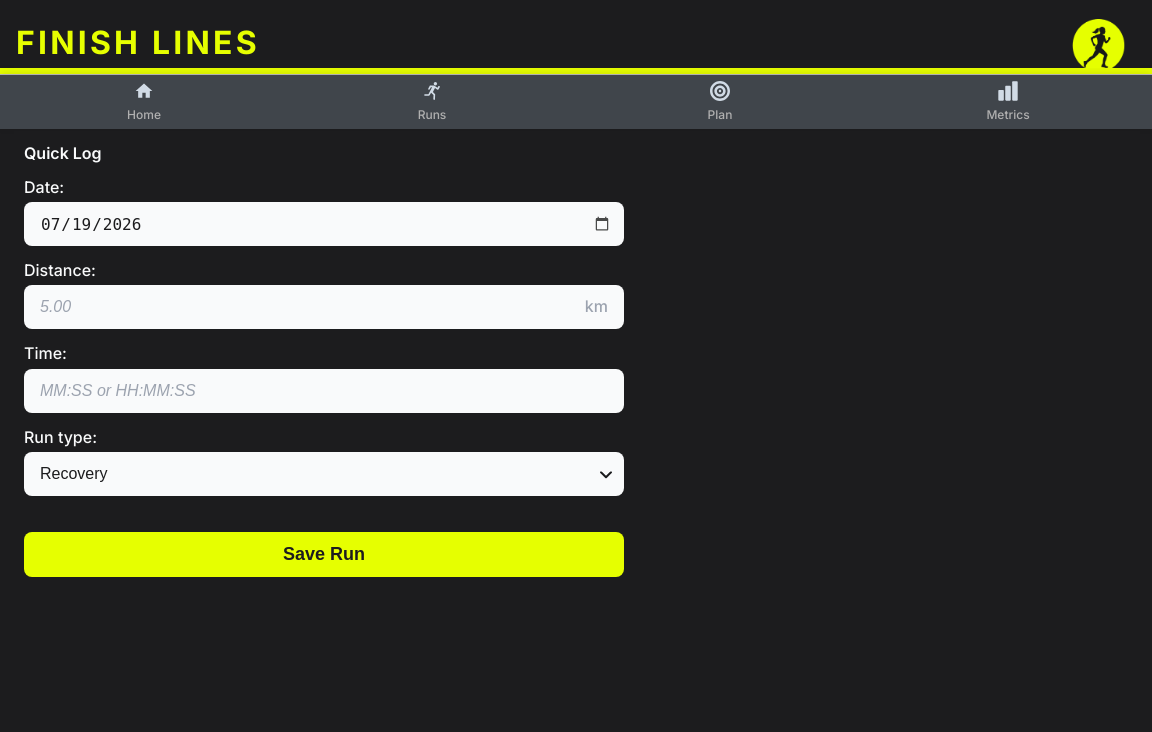
Scenario: QuickLogPage Progress Calculation › should accept and display distances with 2 decimal places
Type "5.25" into the number field with test id "distance-input" at (324,307), box 24,285 -> 624,329
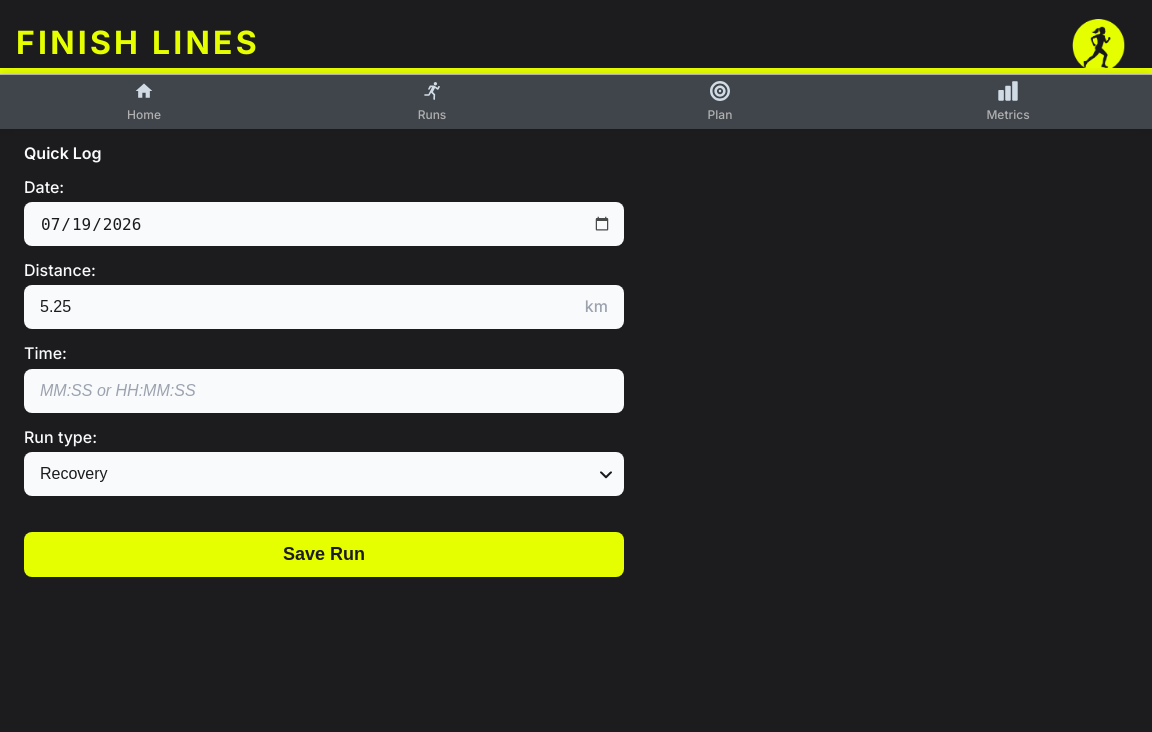
Type "30:00" into the field with test id "time-input" at (324,390), box 24,368 -> 624,412
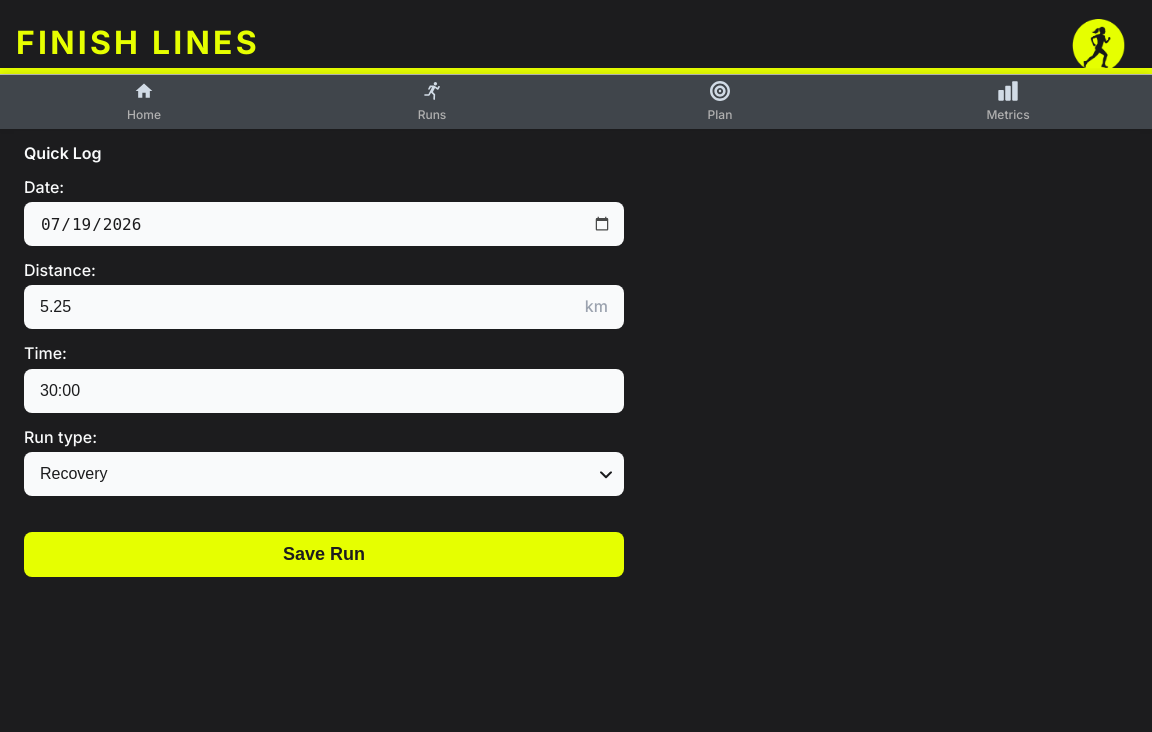
// Submit form
Submit the form with test id "quick-log-form", box 24,175 -> 624,577
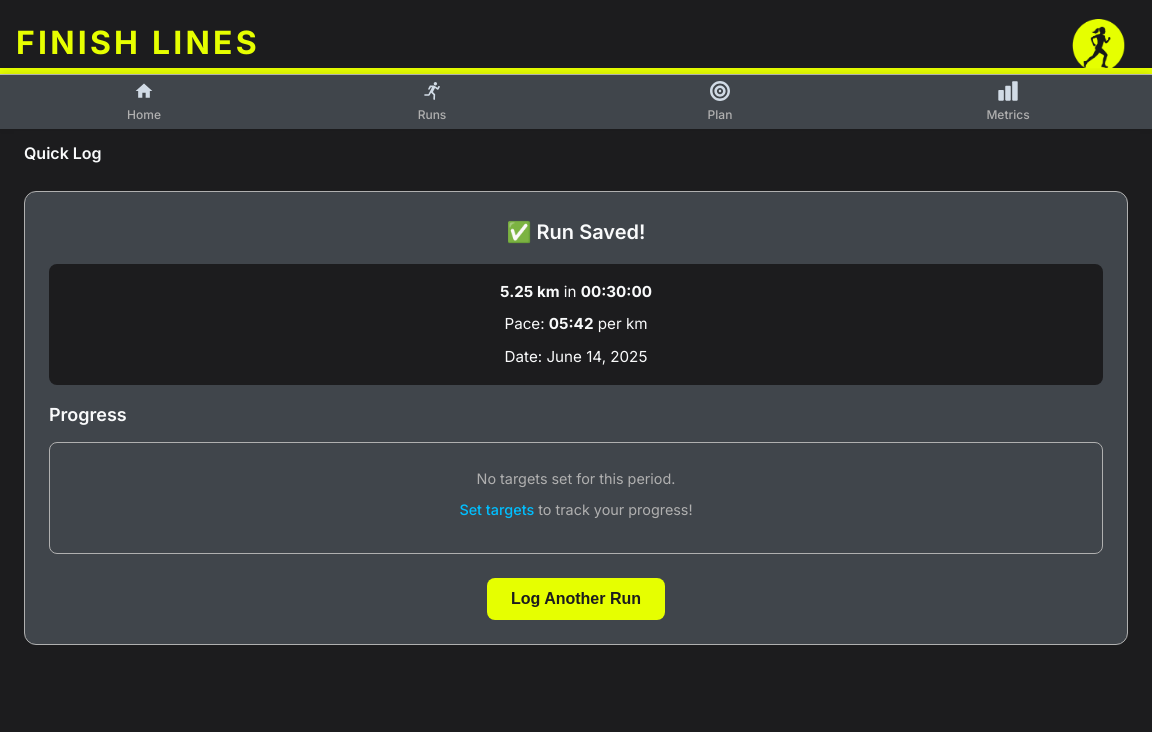
expect the element with class "success-message" is shown: met, box 24,191 -> 1128,645
expect the element with class "success-message" shows "5.25 km": met, box 500,282 -> 560,301
